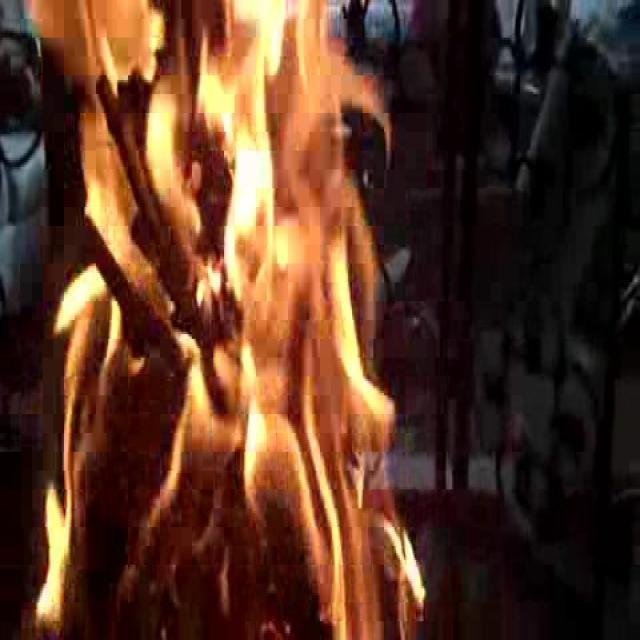Fire: (24, 7, 400, 608)
